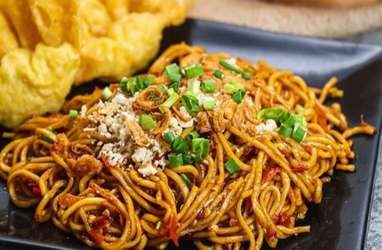Mie: (27, 50, 359, 250)
